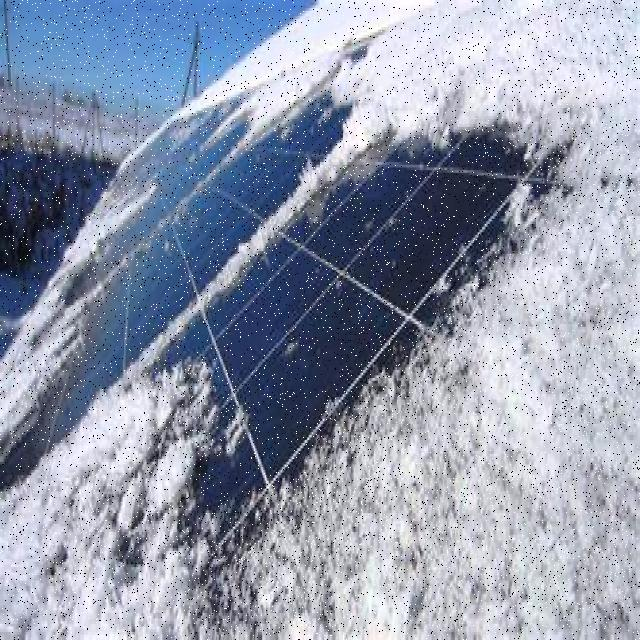snow covered: (6, 0, 632, 637)
